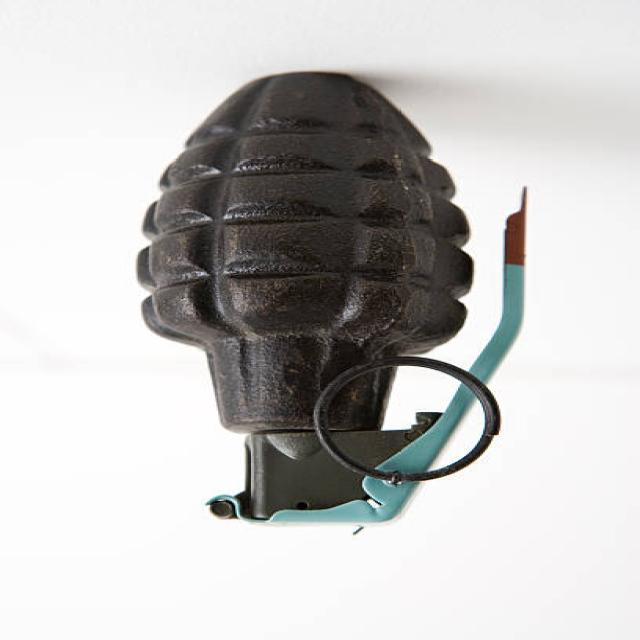grenade: (134, 70, 543, 537)
